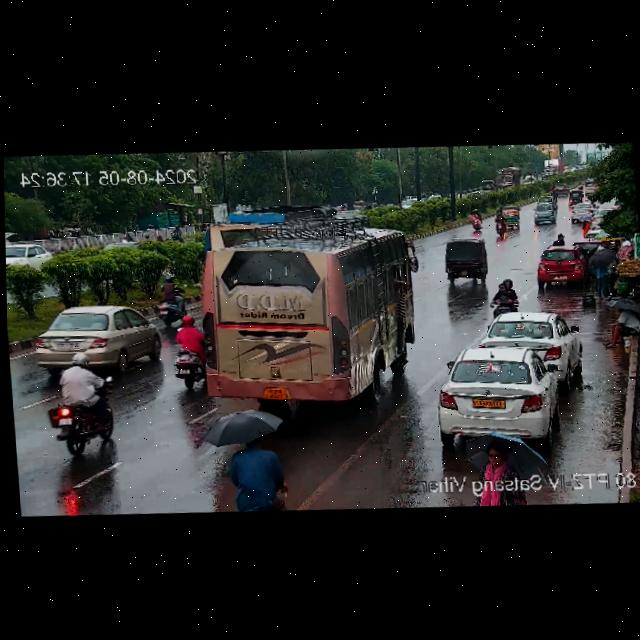bus: (194, 236, 418, 414)
car: (431, 341, 575, 445), (23, 303, 161, 375), (474, 308, 572, 376), (536, 247, 588, 287), (440, 241, 486, 281), (5, 240, 49, 269), (532, 205, 559, 226), (570, 201, 597, 222), (502, 205, 521, 231), (354, 198, 376, 214), (564, 191, 582, 207)
motorcycle: (46, 353, 118, 456), (227, 432, 287, 513), (170, 315, 212, 390), (489, 281, 520, 314), (465, 210, 489, 232), (491, 215, 509, 235), (171, 223, 185, 240)
person: (469, 442, 520, 490), (598, 302, 640, 347), (593, 249, 614, 299)
truck: (495, 167, 520, 193), (541, 156, 565, 179)
